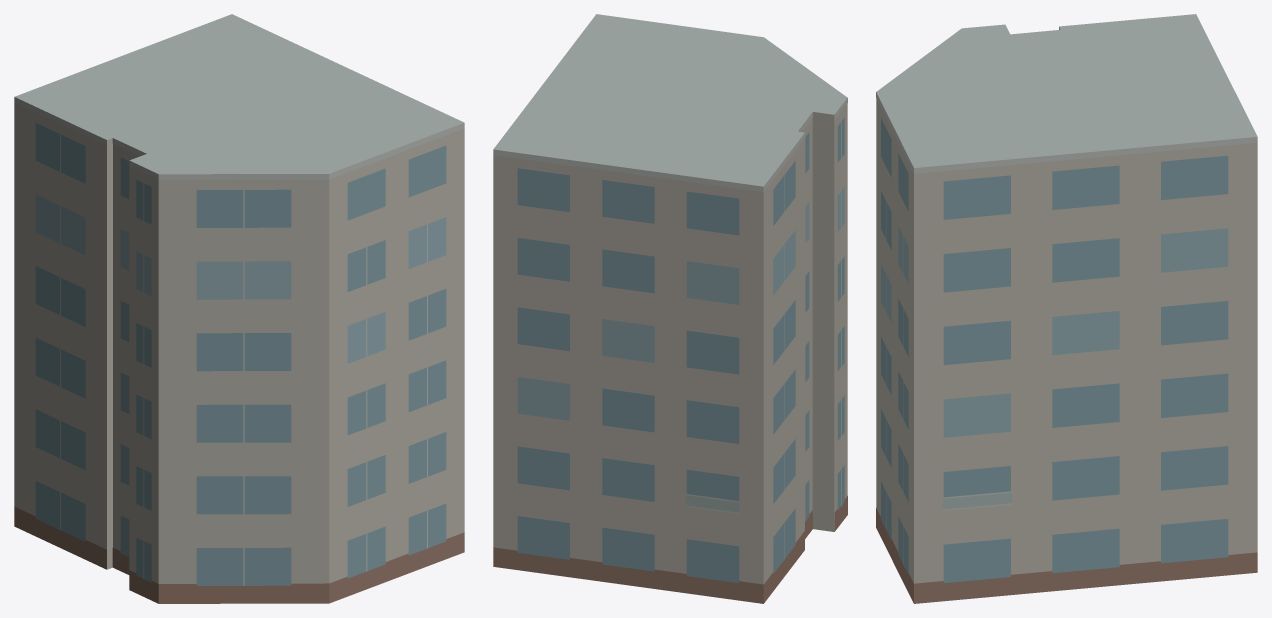
File: survey-upis-32738640.glb
The picture shows the model from 3 angles, left to right: view 1: azimuth 30°, elevation 25°; view 2: azimuth 150°, elevation 25°; view 3: azimuth 270°, elevation 25°; orthographic projection. The views are drawn at different scales.
Visible parts, largest first — view 1: survey-upis-32738640.tmp; view 2: survey-upis-32738640.tmp; view 3: survey-upis-32738640.tmp.
Part boxes in pixels (x1=…): survey-upis-32738640.tmp: x1=14, y1=14, x2=464, y2=603; survey-upis-32738640.tmp: x1=493, y1=14, x2=847, y2=603; survey-upis-32738640.tmp: x1=876, y1=14, x2=1257, y2=603.
Bounding box in the file's own units: 13.89 × 18.3 × 14.53.
